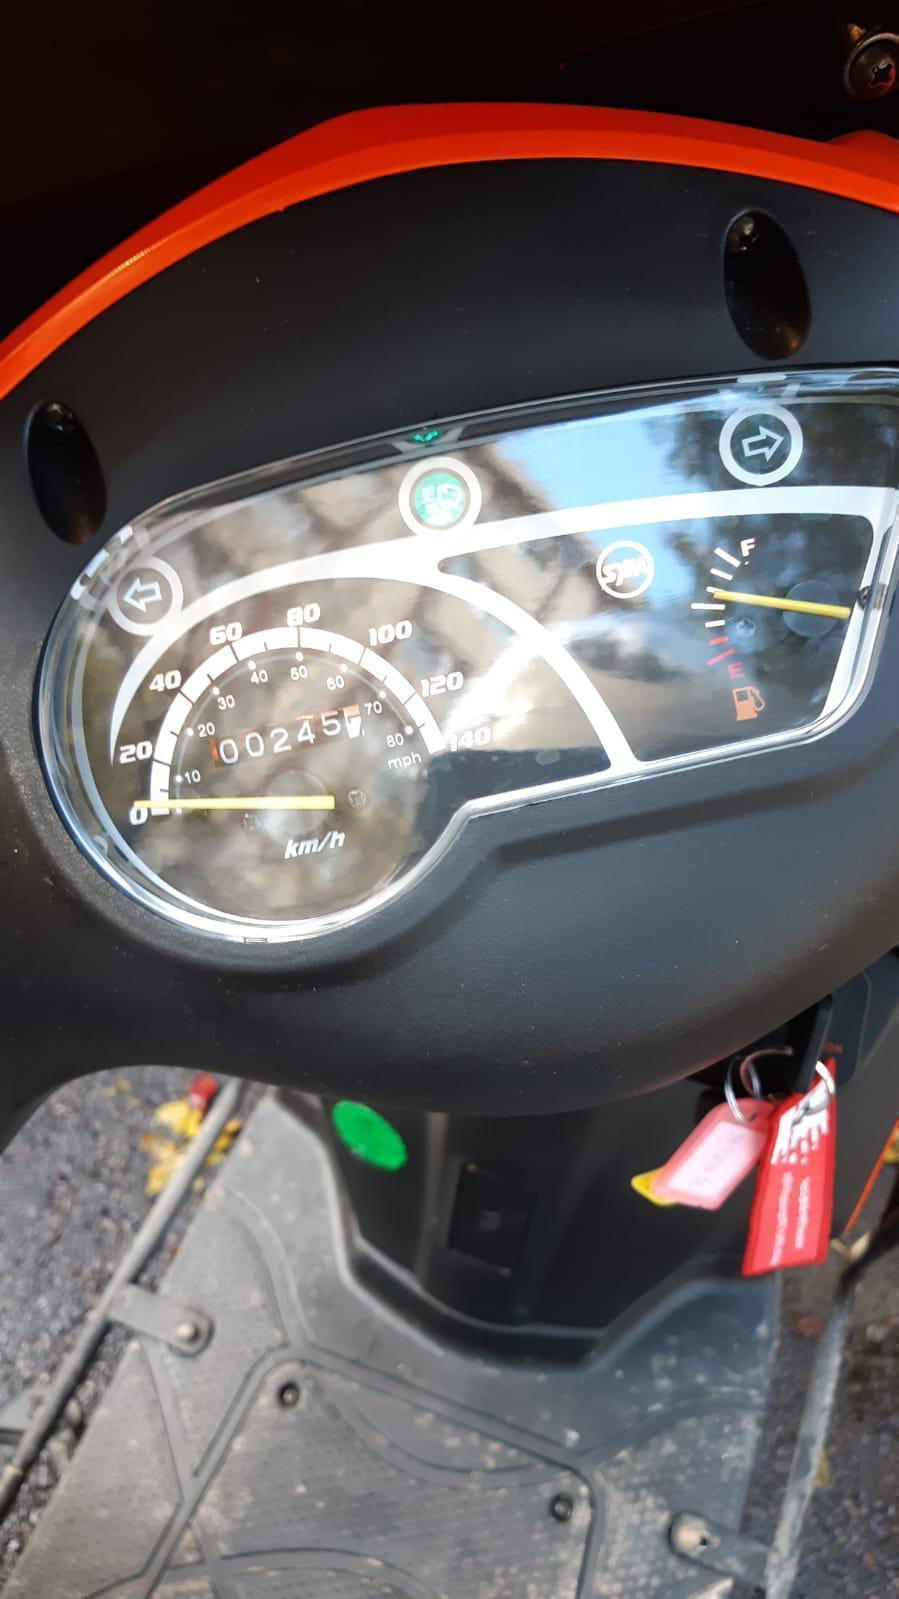0: (244, 730, 265, 757), (218, 738, 238, 763), (206, 720, 215, 736)
2: (269, 726, 291, 753)
4: (296, 719, 315, 745)
5: (321, 711, 340, 736)
7: (347, 714, 363, 736)
odometer: (205, 703, 367, 769)
